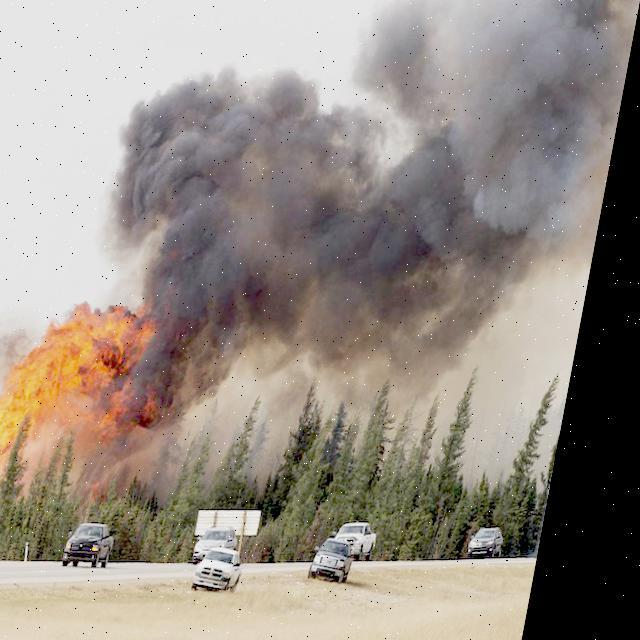Fire: (0, 304, 187, 494)
